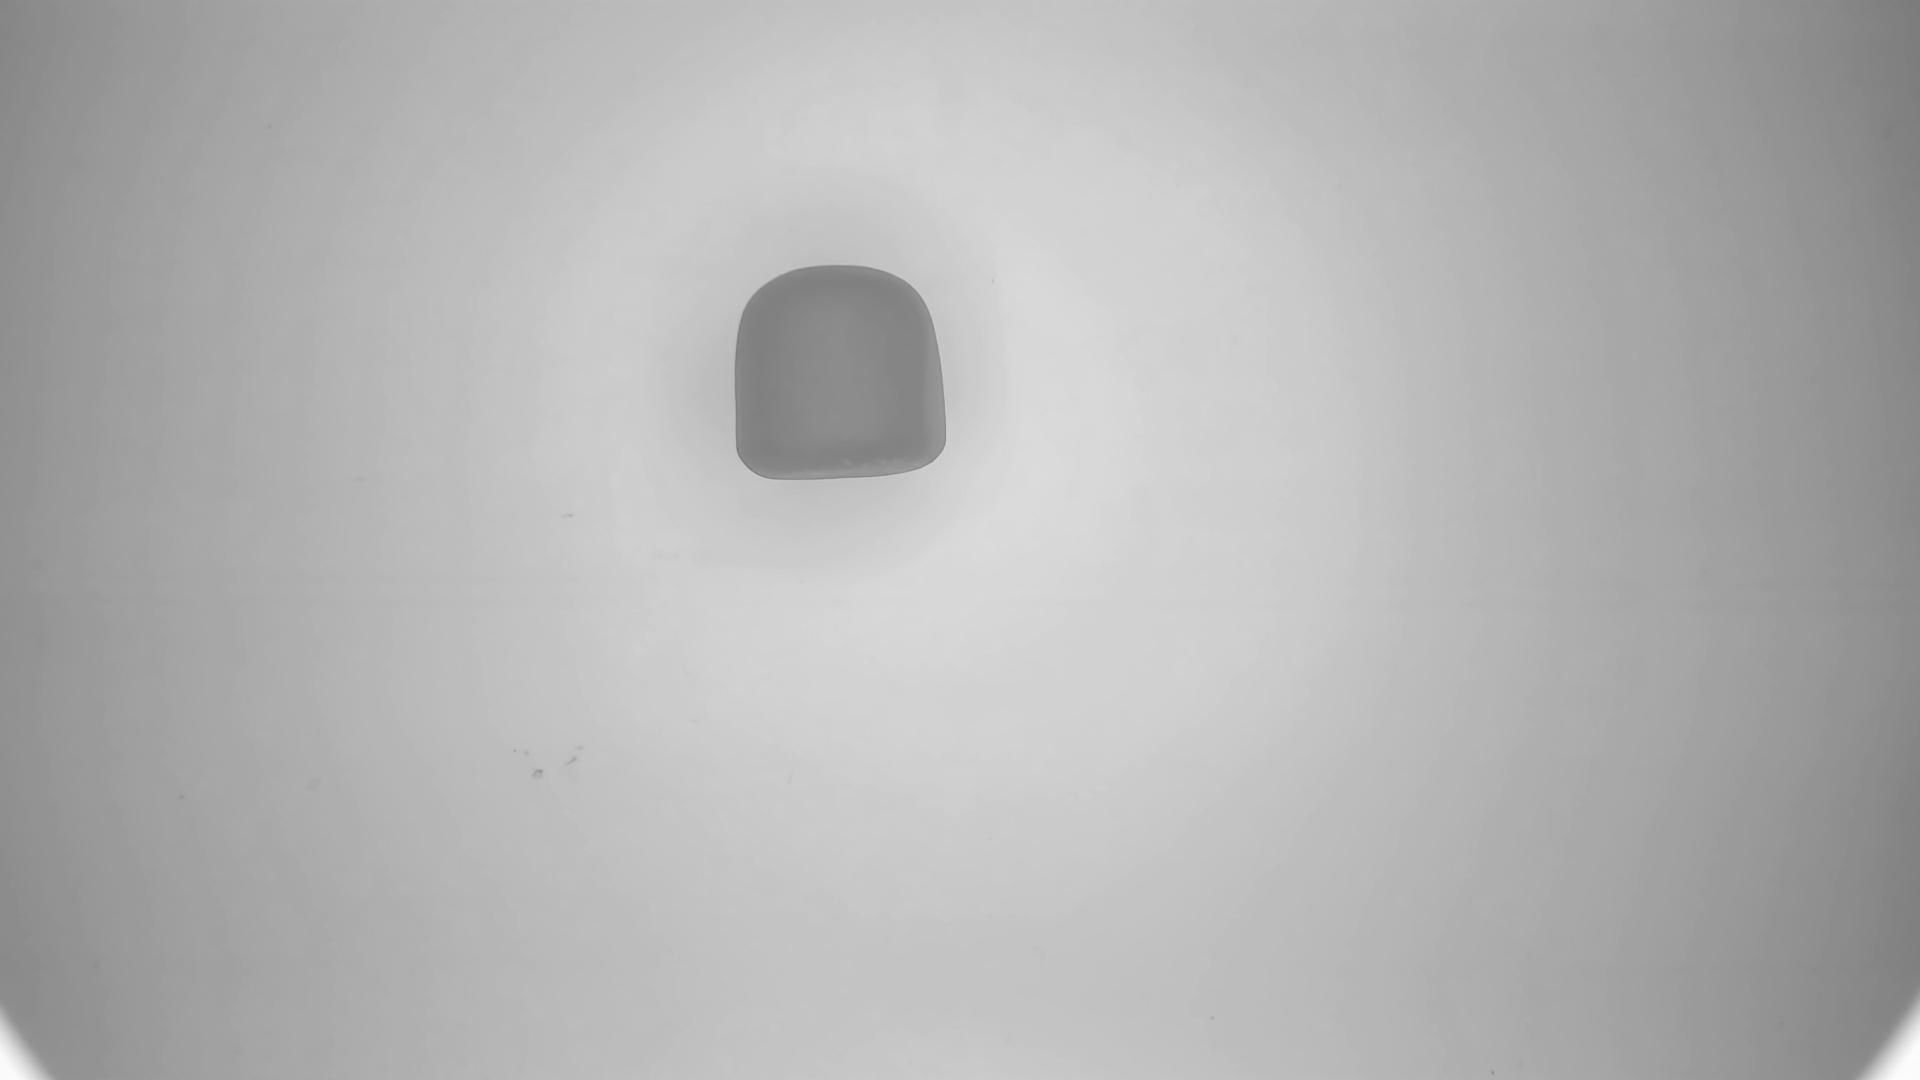normal: (733, 264, 953, 487)
